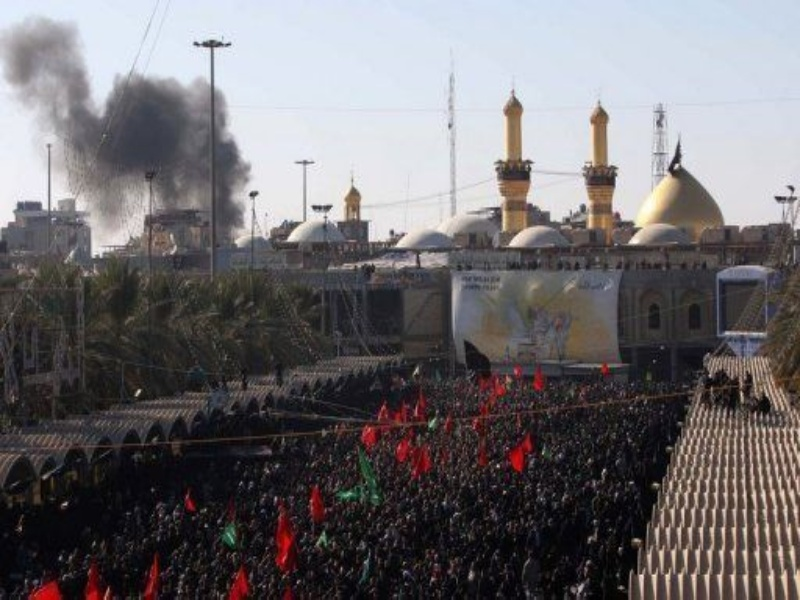smoke: (1, 20, 245, 237)
